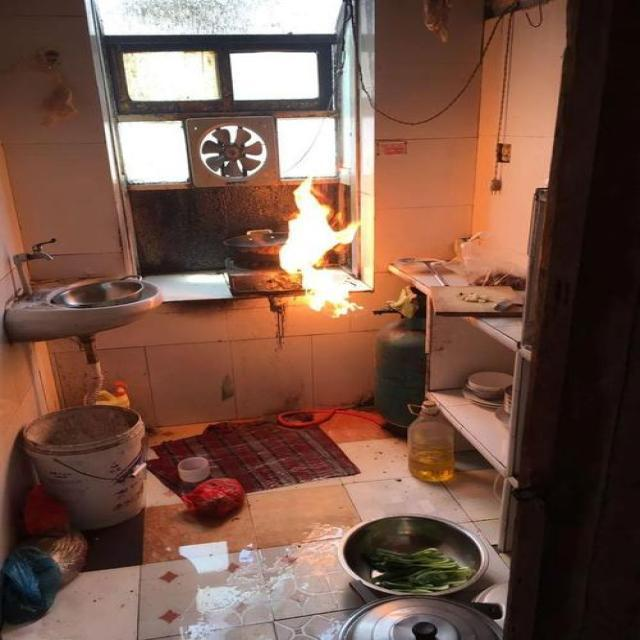Fire: (281, 177, 366, 314)
